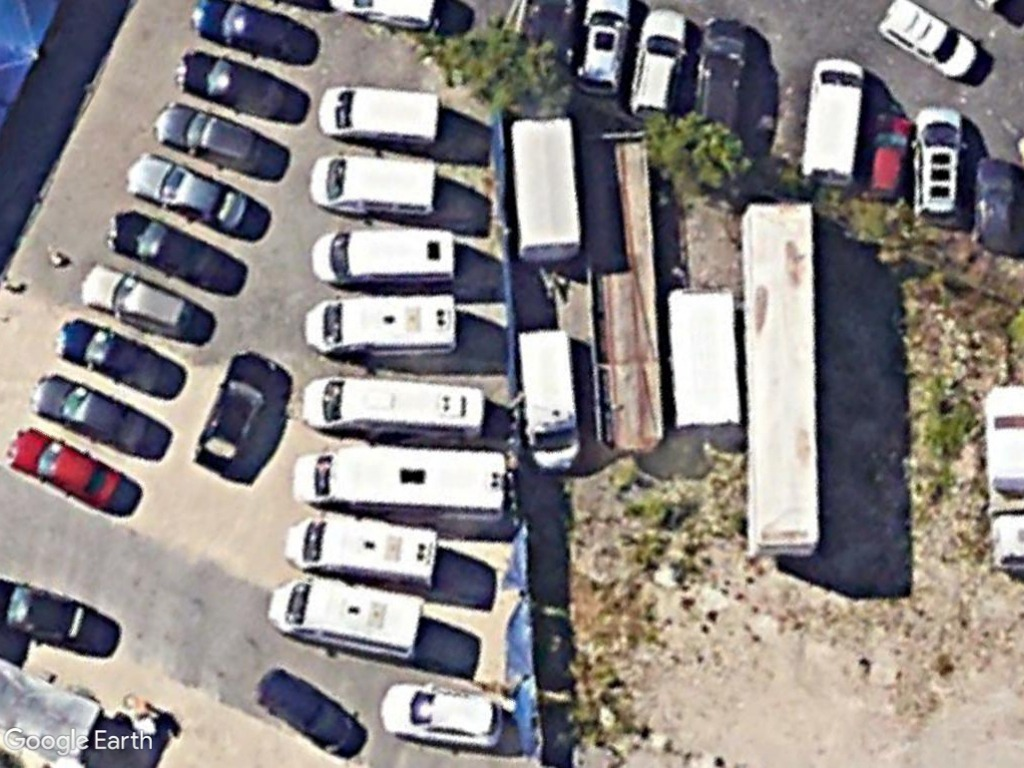car: (191, 349, 276, 475), (124, 151, 251, 234), (1, 427, 126, 506), (29, 374, 153, 453), (377, 678, 506, 752), (77, 261, 196, 340), (146, 99, 267, 173), (106, 203, 220, 281), (874, 0, 981, 79), (626, 6, 693, 125), (852, 111, 914, 202)
truck: (796, 50, 868, 188)
van: (291, 446, 509, 525), (262, 568, 426, 665), (300, 371, 489, 443), (283, 515, 441, 590), (299, 288, 464, 357), (516, 325, 585, 472), (313, 224, 458, 286), (308, 152, 441, 219), (313, 82, 445, 148)
